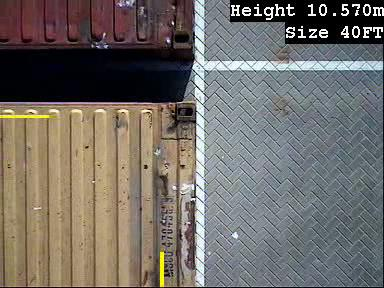groundmarker_2: (1, 76, 97, 180)
